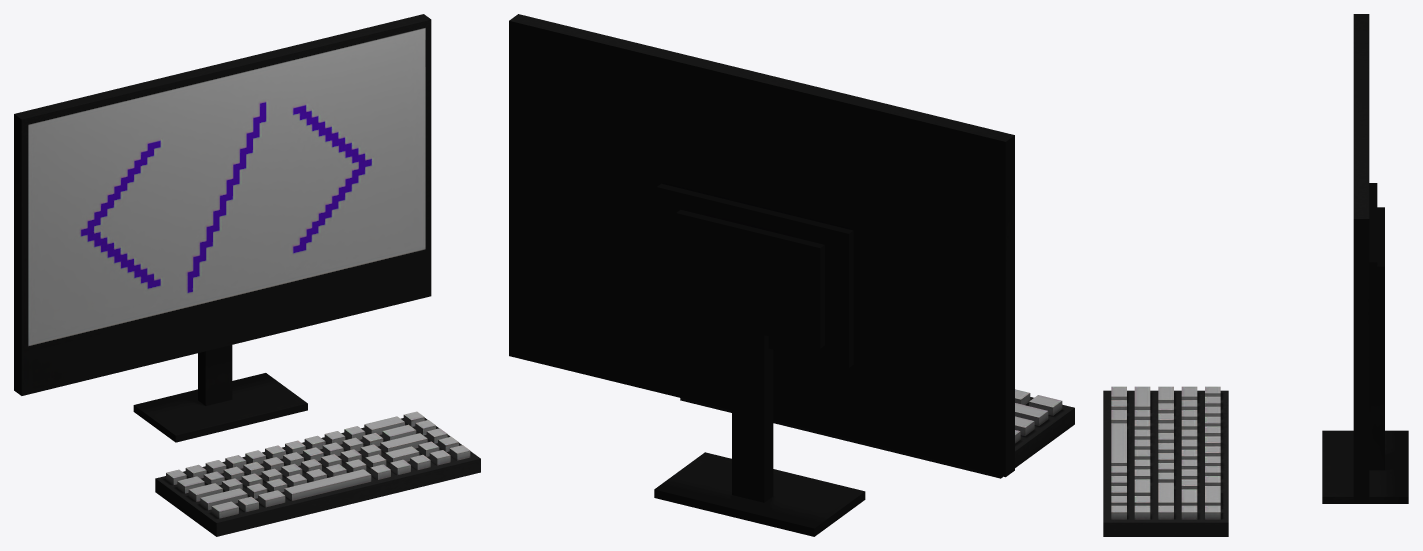
Rendered from PCv2.glb.
The picture shows the model from 3 angles, left to right: view 1: azimuth 30°, elevation 25°; view 2: azimuth 150°, elevation 25°; view 3: azimuth 270°, elevation 25°; orthographic projection. The views are drawn at different scales.
Parts seen in each view (by area): view 1: PCv2; view 2: PCv2; view 3: PCv2.
Part boxes in pixels (box(x1,y1,x2,y2)): PCv2: box(14, 14, 480, 536); PCv2: box(509, 14, 1074, 536); PCv2: box(1103, 14, 1408, 536).
Size of what is drawn, in the model's own units: 6.2 by 5 by 3.9.
1 material, 1 textured.
